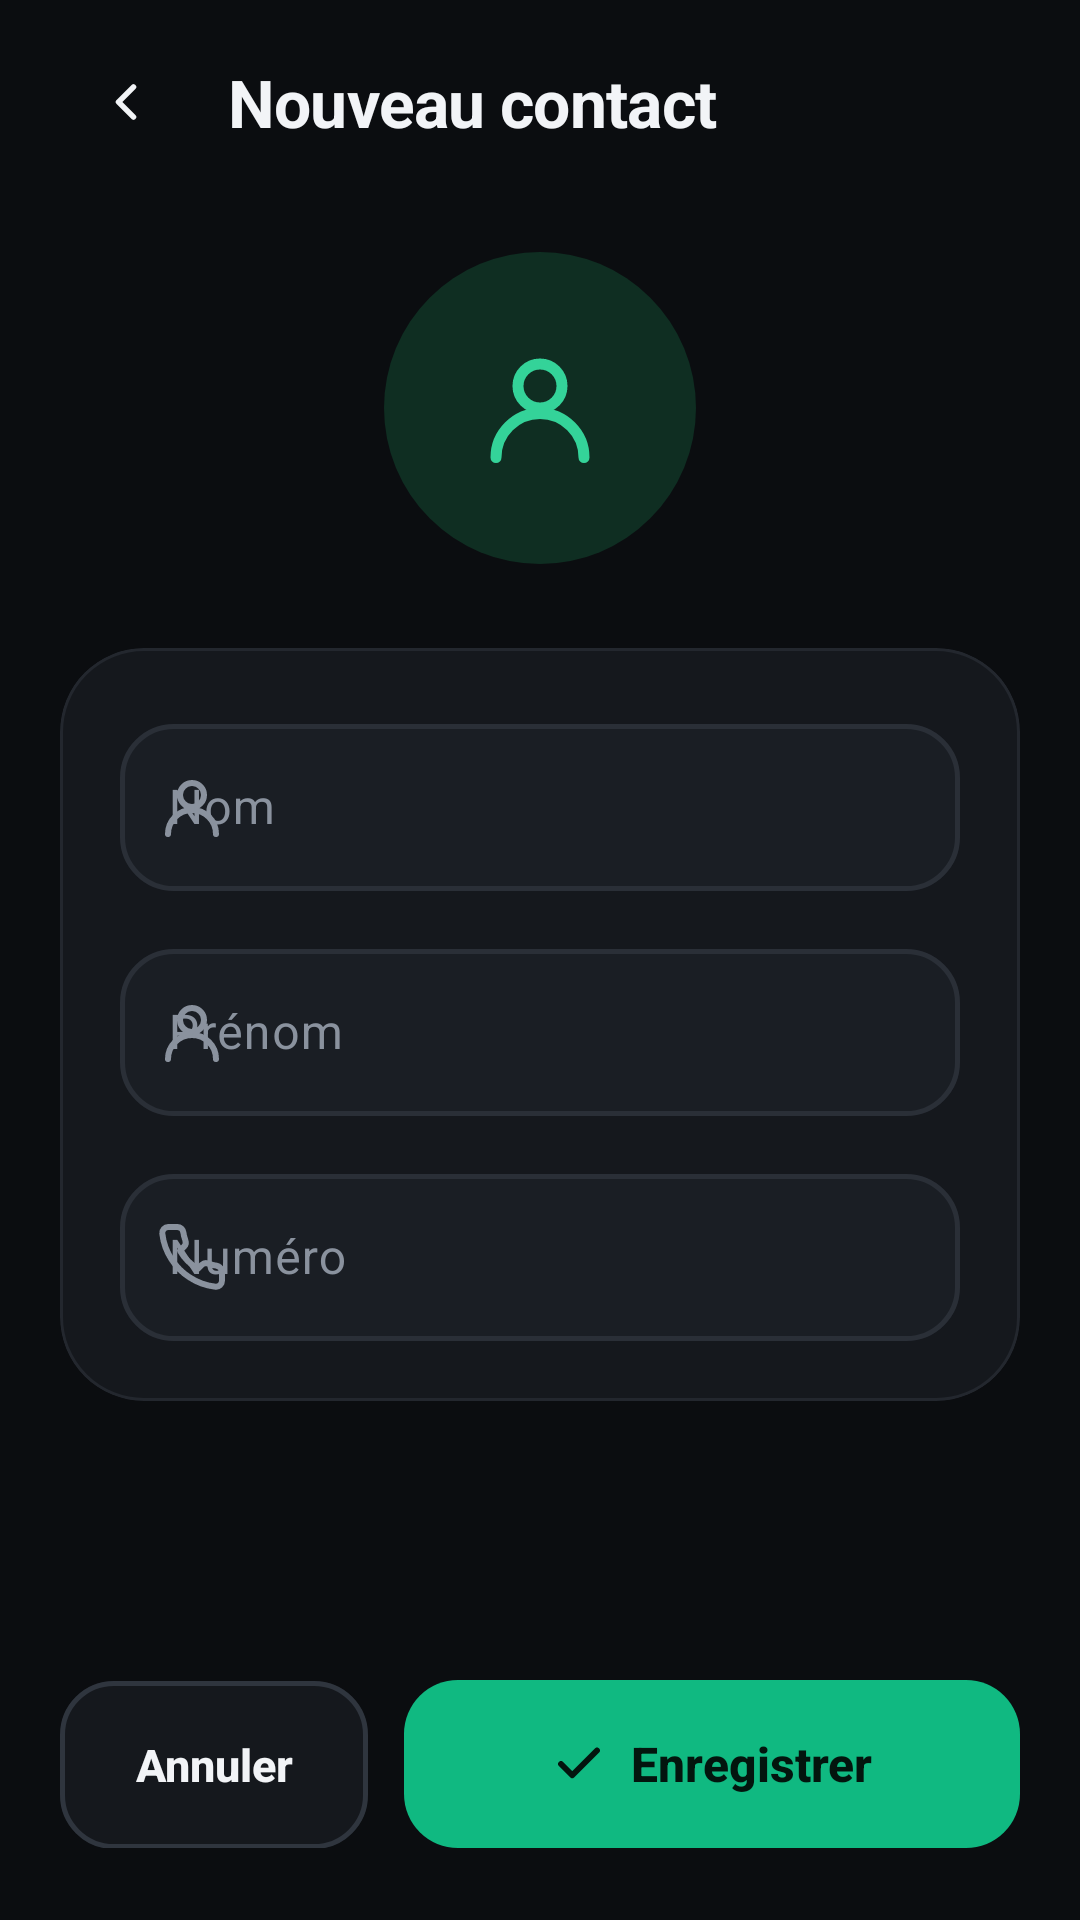

Icon bounding boxes for this 1080px x 1920px phone screenshot, format bbox(x1, y1, x2, y2):
person: bbox(490, 358, 590, 463)
Retour: bbox(115, 84, 137, 120)
